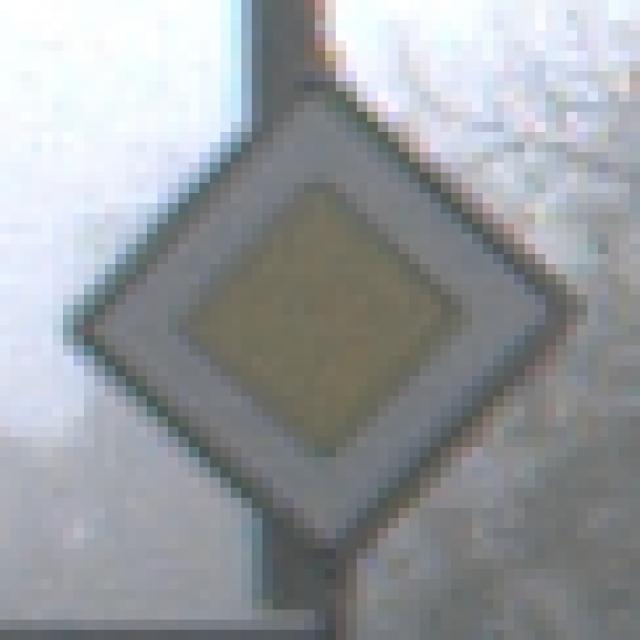Main Road: (54, 52, 589, 590)
